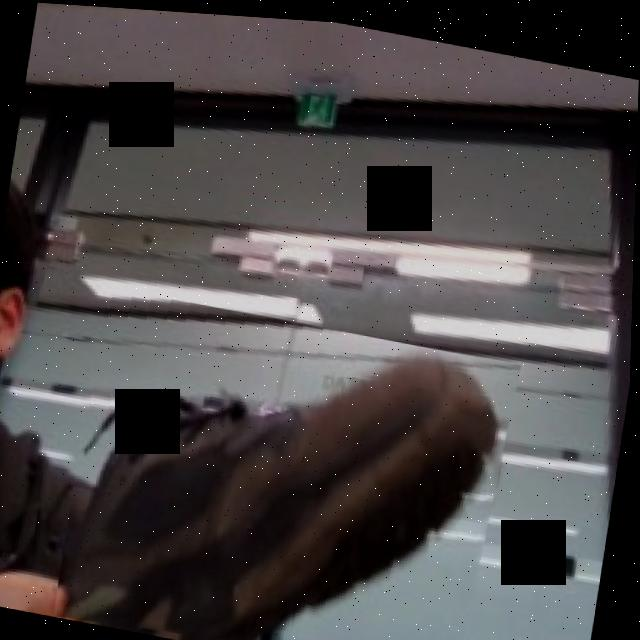shoe: (55, 282, 525, 640)
